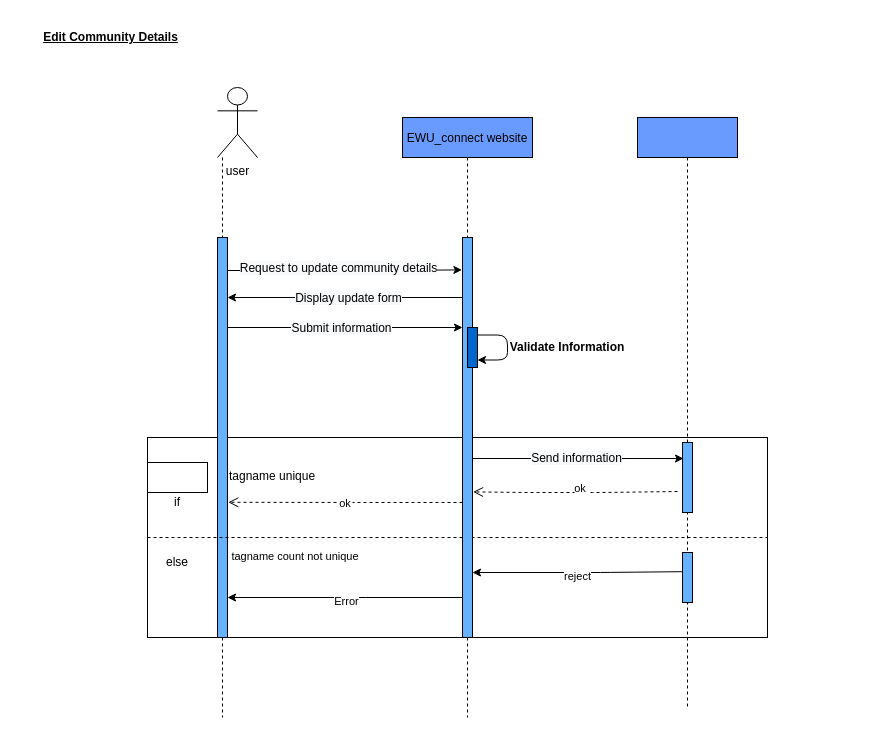
Some shapes in this 875 by 735 pixel diagram are drawn without their labels. The shapes that lost their labels are listed below. From the top down, each one's box as (x1, y1, x2, y2) in pixels, then its label:
(636, 116, 738, 708): Database
(146, 462, 208, 492): Alternative
